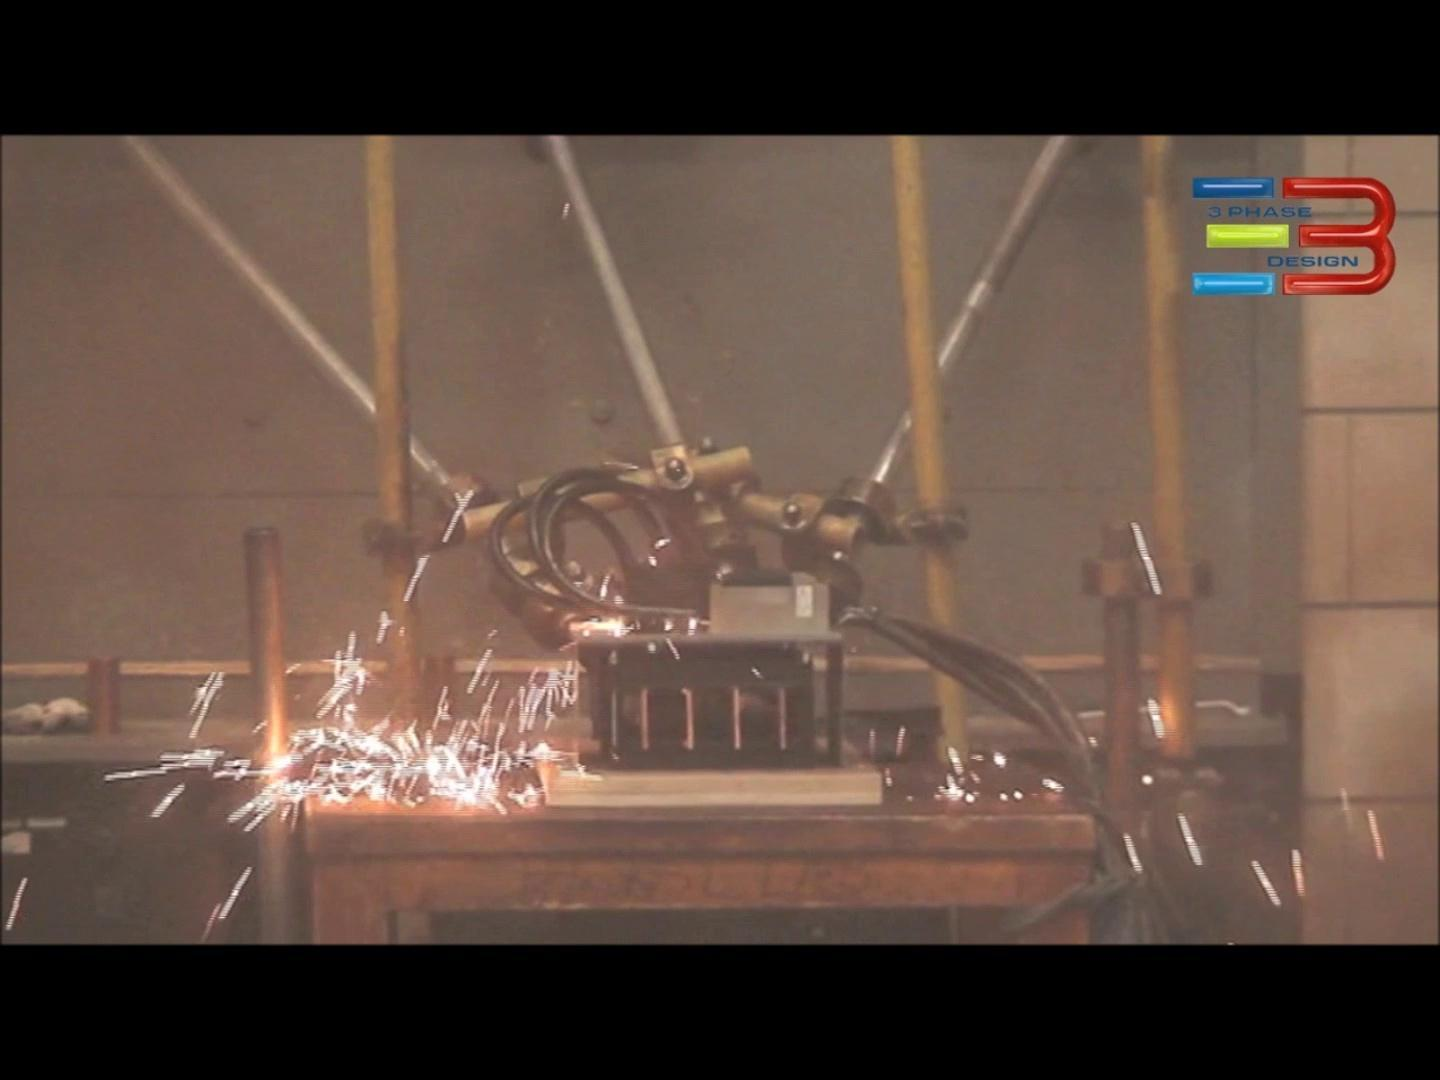fire: (132, 427, 887, 917)
